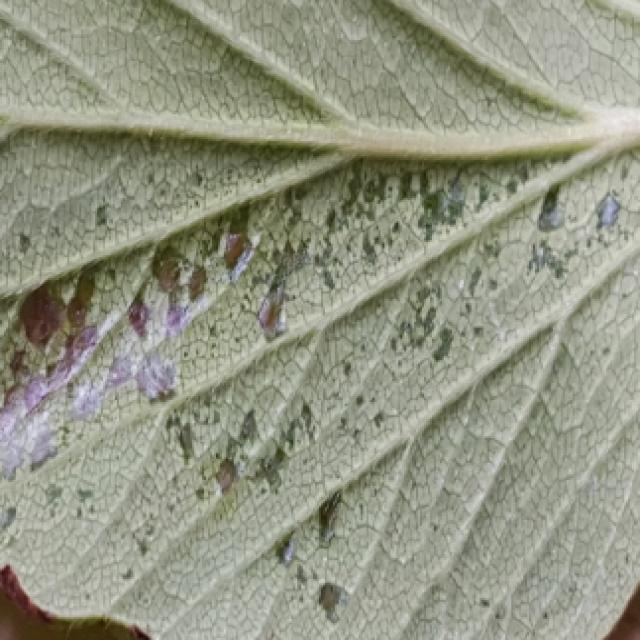Angular Leafspot: (0, 76, 640, 640)
